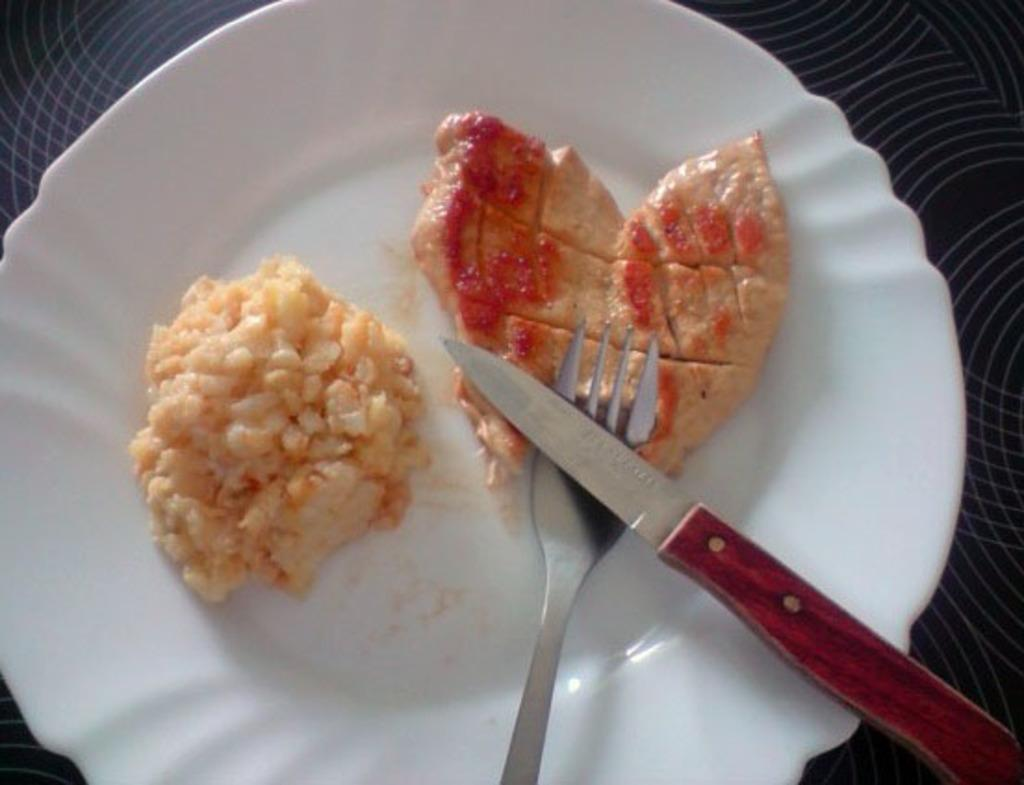Knife: (445, 334, 1022, 783)
